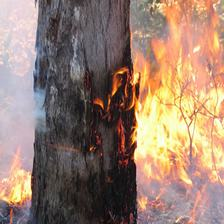fire: (92, 2, 224, 204), (1, 152, 44, 209)
